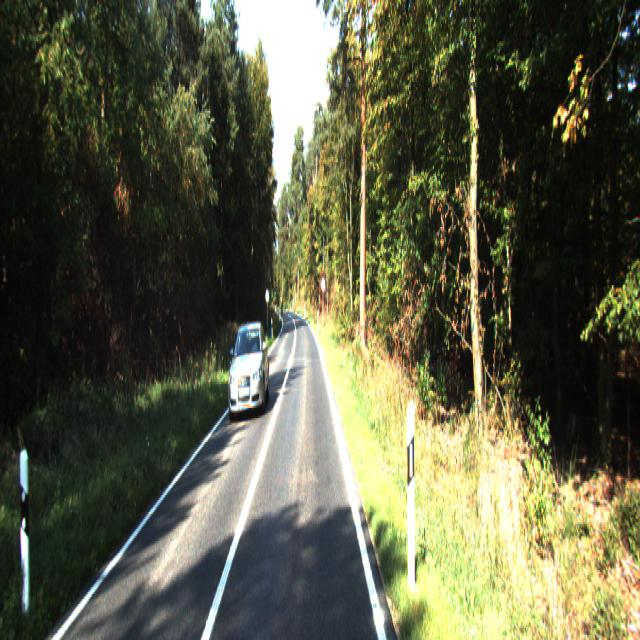Car: (226, 318, 272, 421)
